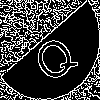Q: (25, 25, 81, 88)
